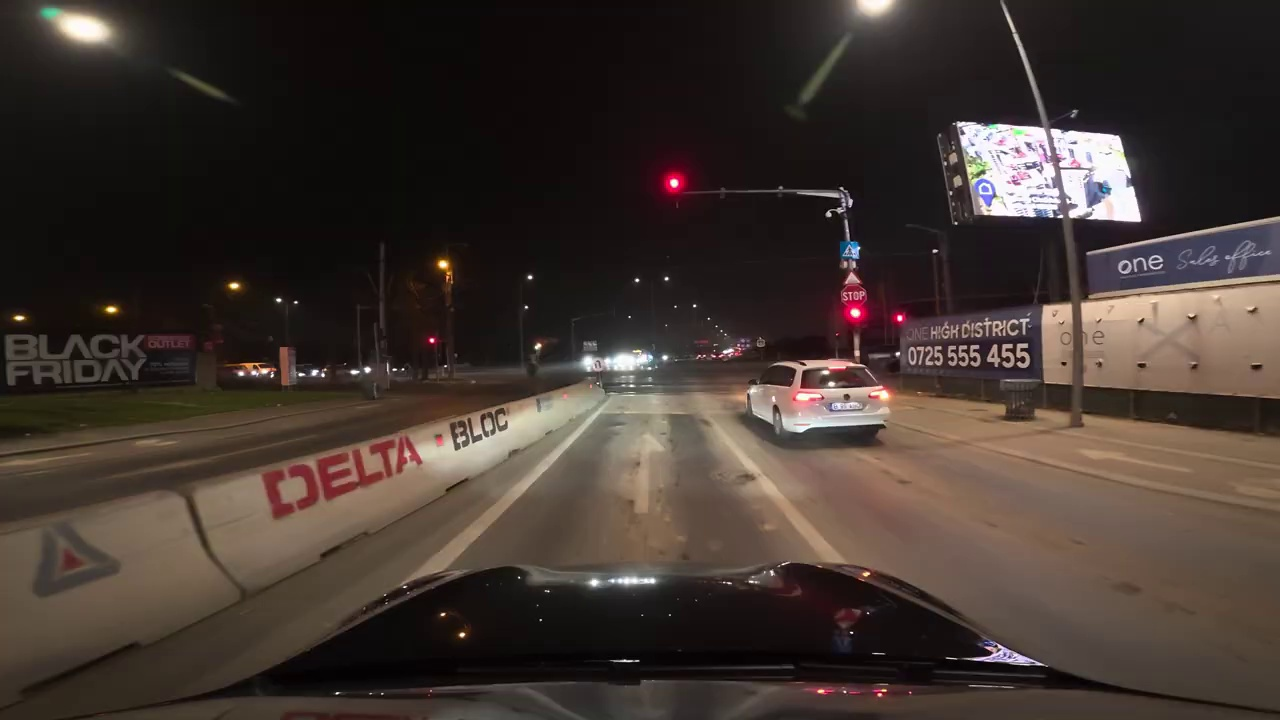acesa: (53, 10, 111, 47), (855, 0, 897, 22), (660, 169, 688, 194), (433, 256, 455, 281), (223, 277, 246, 299)
